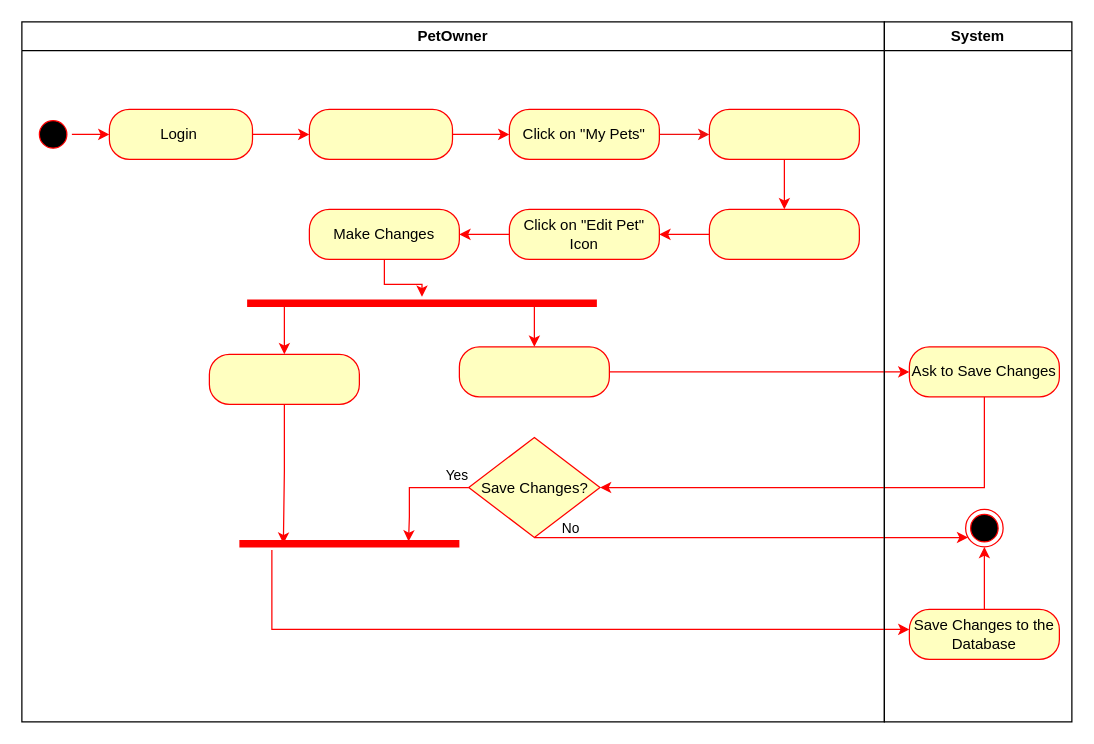
This 1094x744 diagram has some shape labels left out. The shapes that lost their labels are listed below. From the top down, each one's box as (x1, y1, x2, y2) in pixels, then its label:
(308, 108, 452, 159): View Dashboard
(708, 108, 859, 159): View Pet List
(708, 208, 859, 259): Decide on Pet
(208, 353, 359, 404): Click on "Save" button
(458, 346, 609, 397): Exit Page
